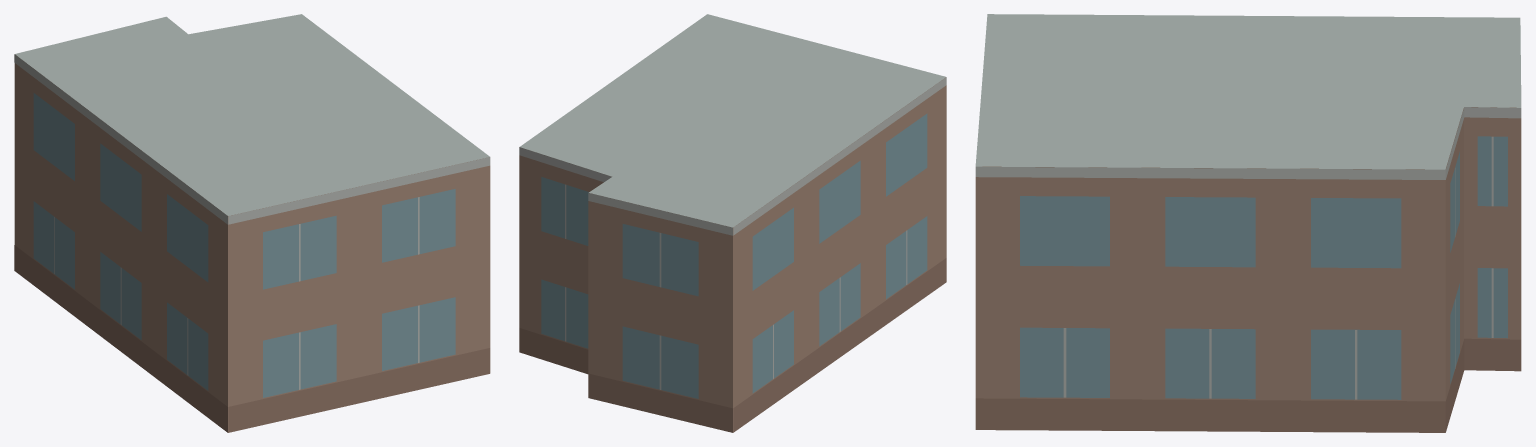
File: survey-upis-32781735.glb
3 renders of one model, left to right at view 1: azimuth 30°, elevation 25°; view 2: azimuth 150°, elevation 25°; view 3: azimuth 270°, elevation 25°, orthographic. The views are drawn at different scales.
Visible parts, largest first — view 1: survey-upis-32781735.tmp; view 2: survey-upis-32781735.tmp; view 3: survey-upis-32781735.tmp.
Part boxes in pixels (box(x1,y1,x2,y2)): survey-upis-32781735.tmp: box(14, 14, 490, 432); survey-upis-32781735.tmp: box(519, 14, 946, 432); survey-upis-32781735.tmp: box(975, 14, 1521, 432).
Size of the model in its own units: 7.74 by 6.1 by 11.48.
